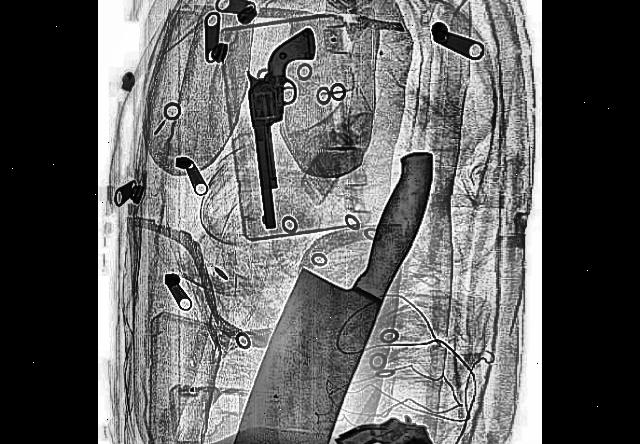Gun: (228, 5, 322, 236), (332, 376, 481, 444)
Knife: (229, 89, 456, 444)
